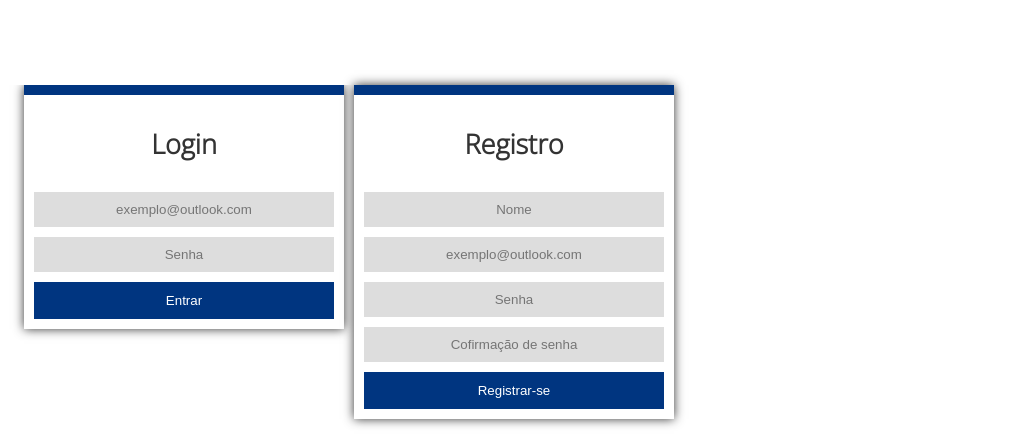
it: <Login /> 2 › should create a register
Type "Tobias Leite" into the field titled "Nome - Registro" at (514, 210), box [364,192,664,227]
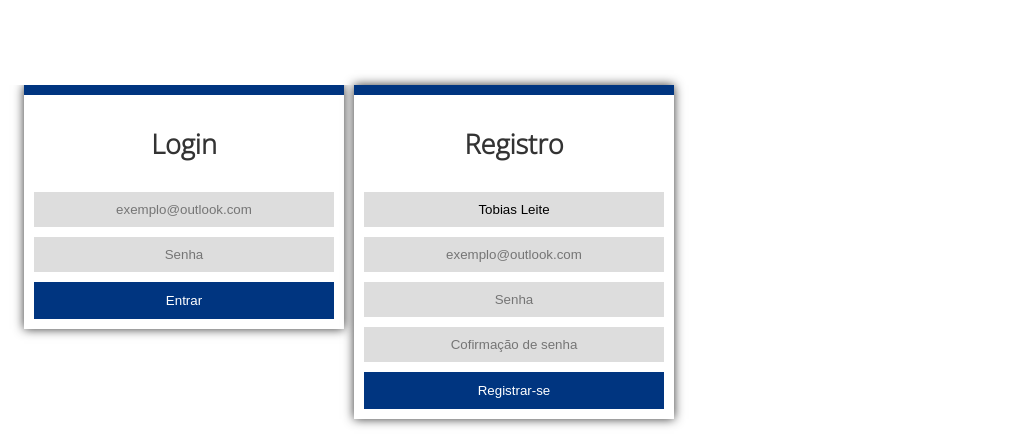
Type "tobias.leite@outlook.com" into the field titled "Email - Registro" below "Registro" at (514, 254), box [364,237,664,272]
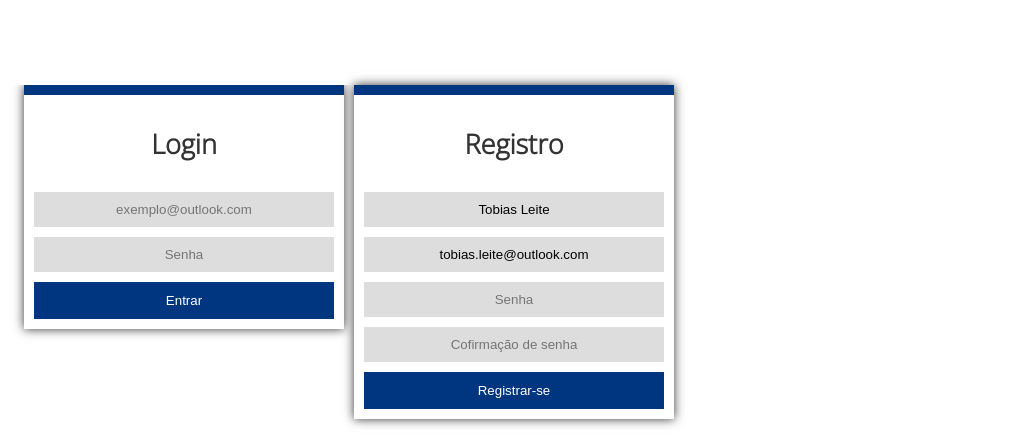
Type "123456789" into the password field titled "Senha - Registro" below "Registro" at (514, 300), box [364,282,664,317]
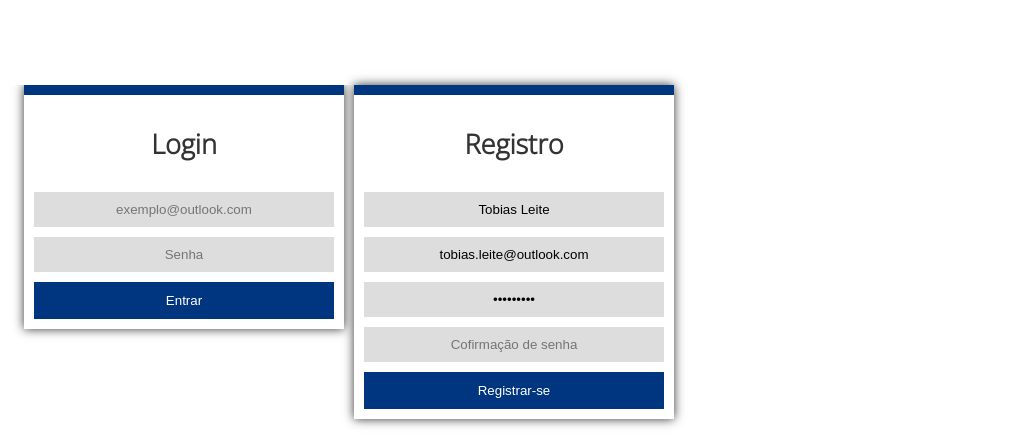
Type "123456789" into the password field titled "Cofirmação de senha - Registro" at (514, 344), box [364,327,664,362]
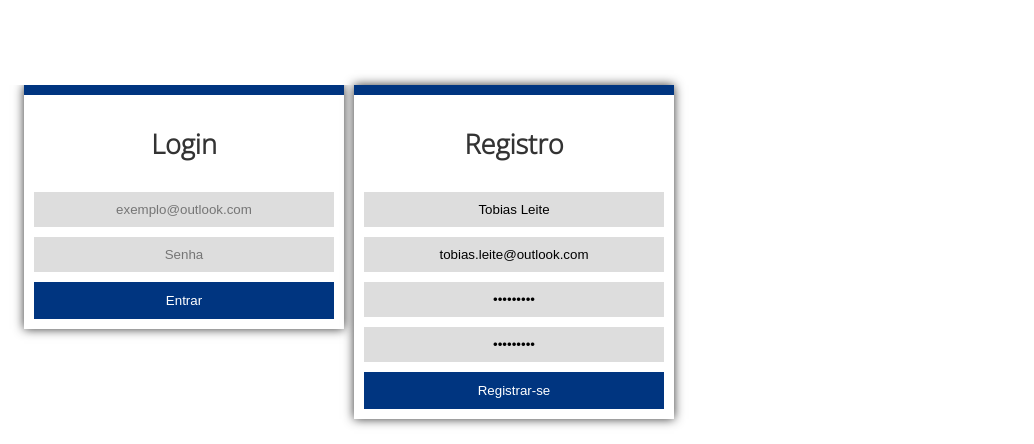
Click the button "Registrar-se" at (514, 390), box [364,372,664,409]
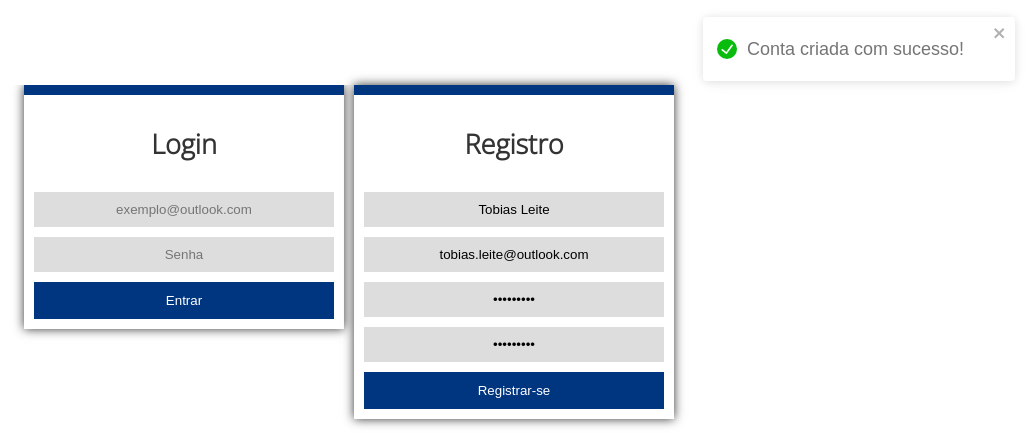
Check: the text "Conta criada com sucesso!" is shown, box [747,38,987,60]
